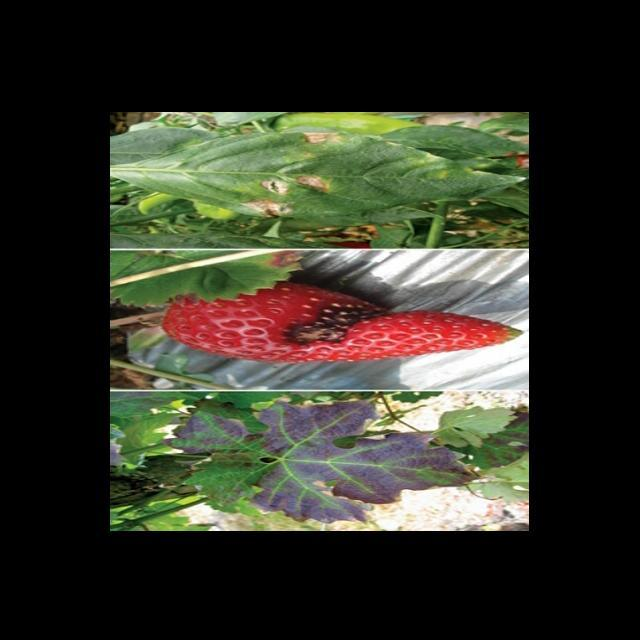Anthracnose Fruit Rot: (277, 295, 391, 349)
